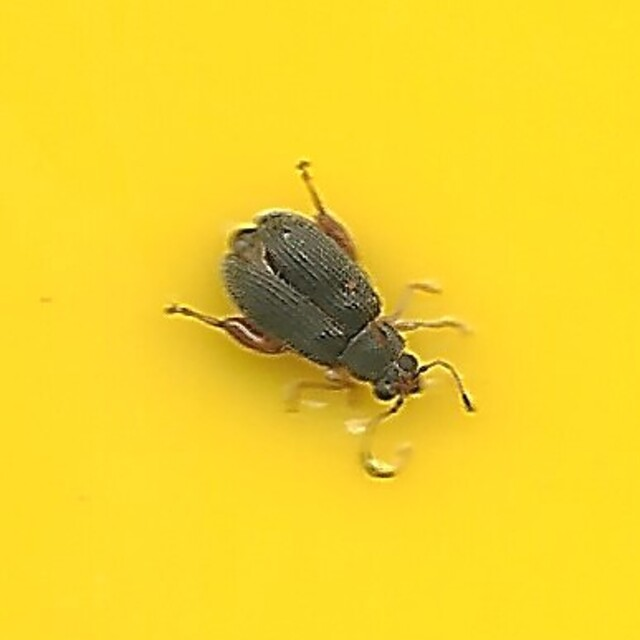Coleoptera: (165, 162, 475, 478)
